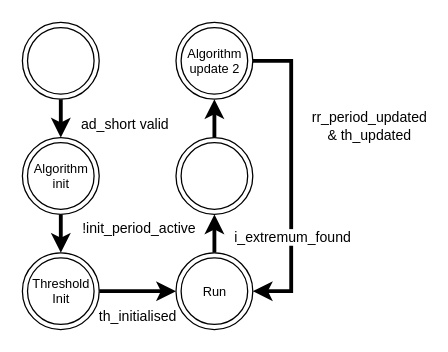
The diagram is 448 pixels wide and 352 high, and some of its shapes have lost their labels. The shapes that lost their labels are listed below. From the top down, each one's centre as x and y in pixels, then its label:
At point (60, 60): "Init".
At point (214, 175): "Algorithm update 1".
